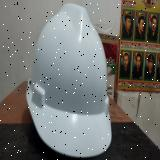Helmet: (26, 2, 112, 158)
